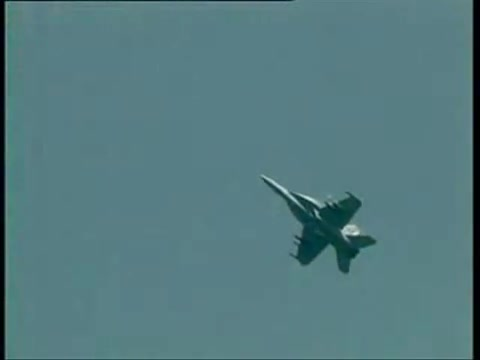aeroplane: (261, 175, 378, 276)
